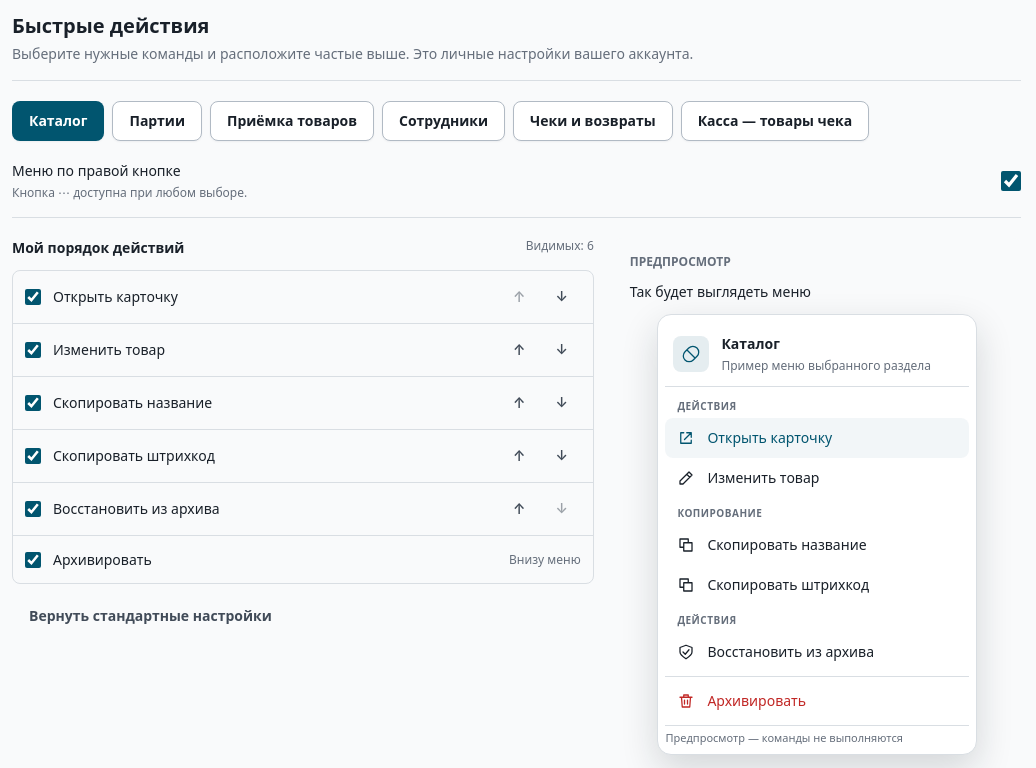
Test: QuickActionsSettingsPanel › explains why an all-hidden draft cannot be saved
The width and height of the screenshot is (1036, 768).
Step 1. Click the button "Партии" → {"x": 157, "y": 121}, box [112, 101, 202, 141]
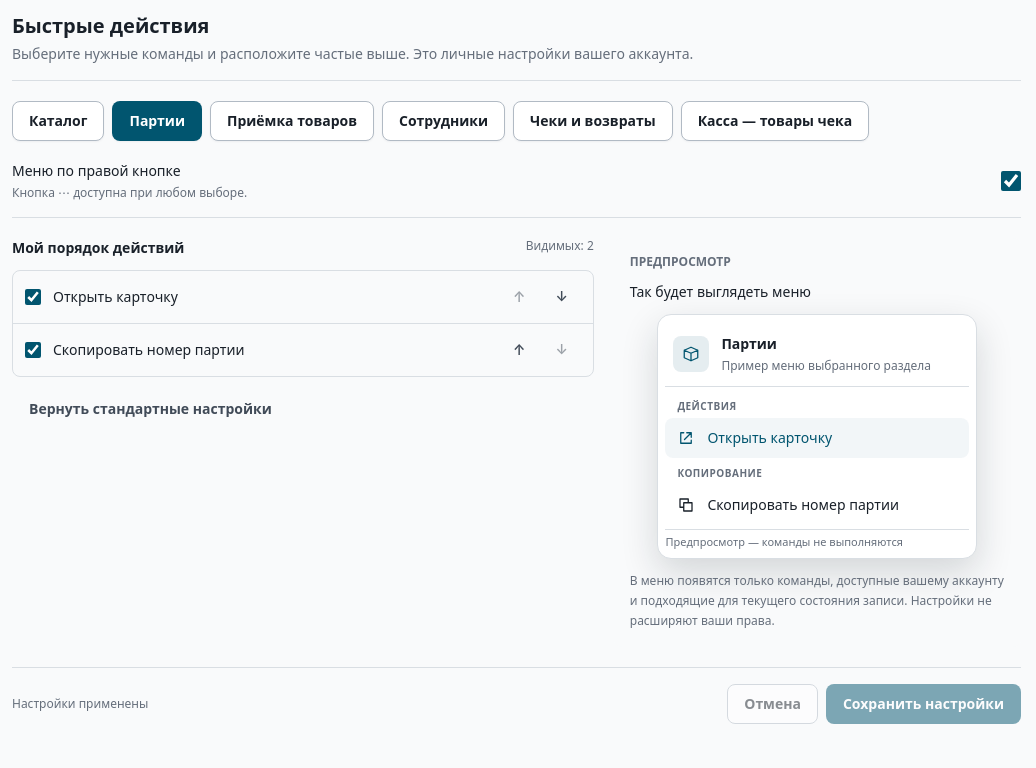
Step 2. Click the checkbox named "Показывать в меню: Открыть карточку" → {"x": 33, "y": 297}, box [25, 289, 41, 305]
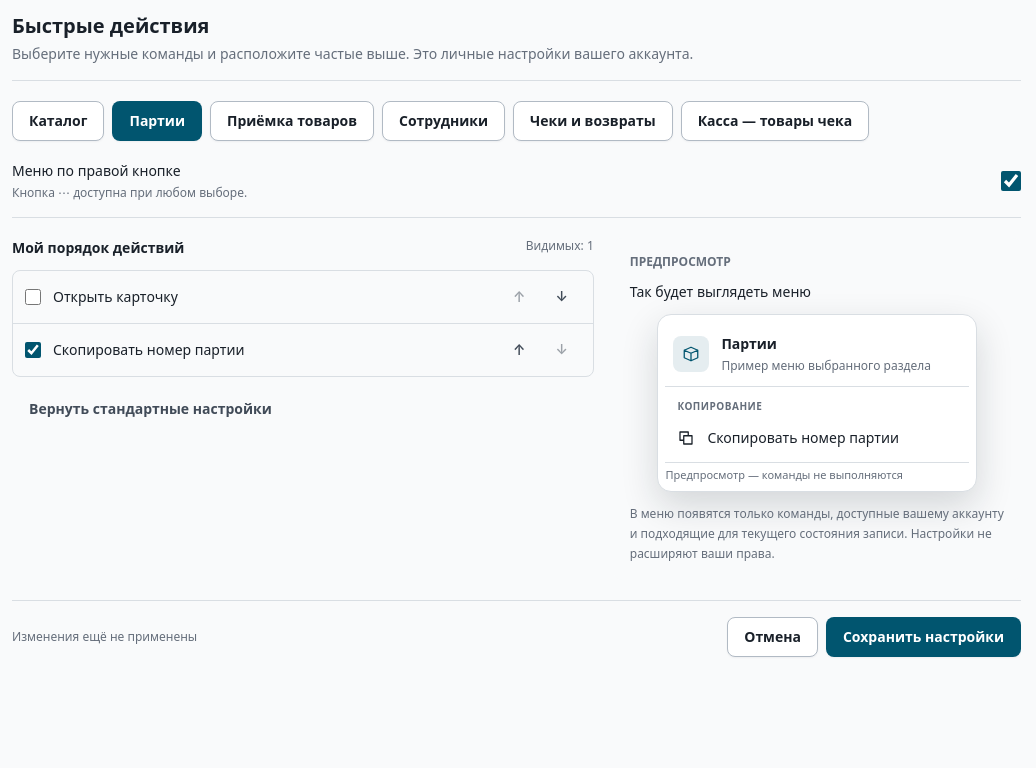
Step 3. Click the checkbox named "Показывать в меню: Скопировать номер партии" → {"x": 33, "y": 350}, box [25, 342, 41, 358]
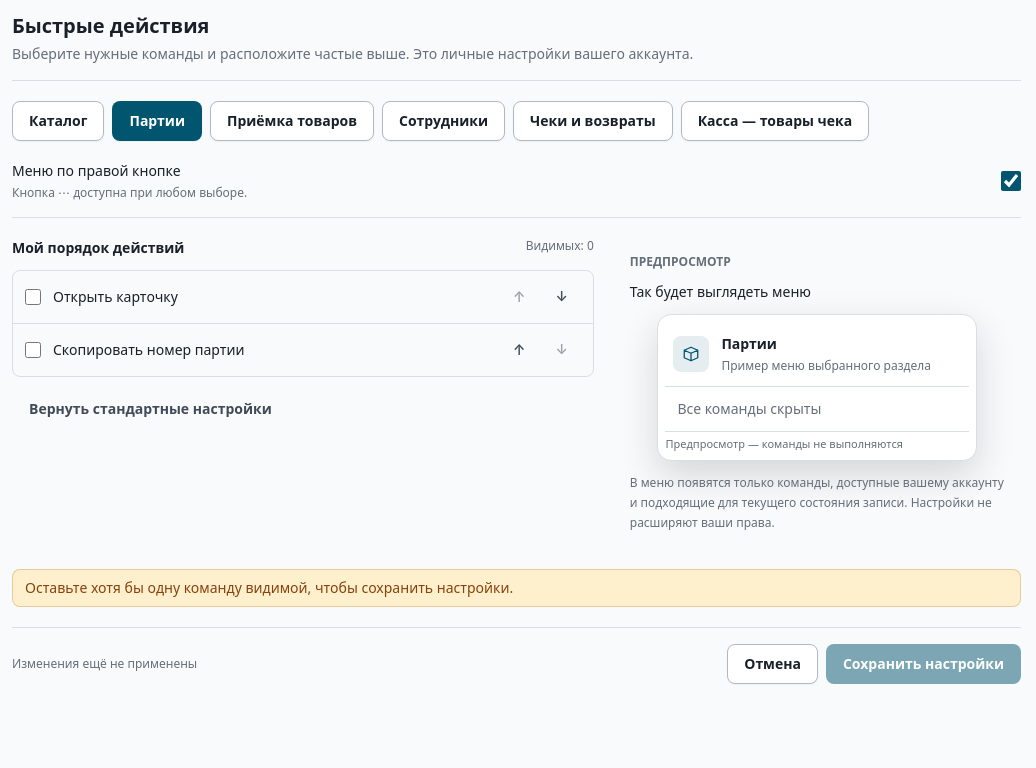
Expected: the text "Оставьте хотя бы одну команду видимой, чтобы сохранить настройки." is shown, [12, 568, 1021, 606]
Expected: the button "Сохранить настройки" is disabled, [826, 644, 1021, 684]
